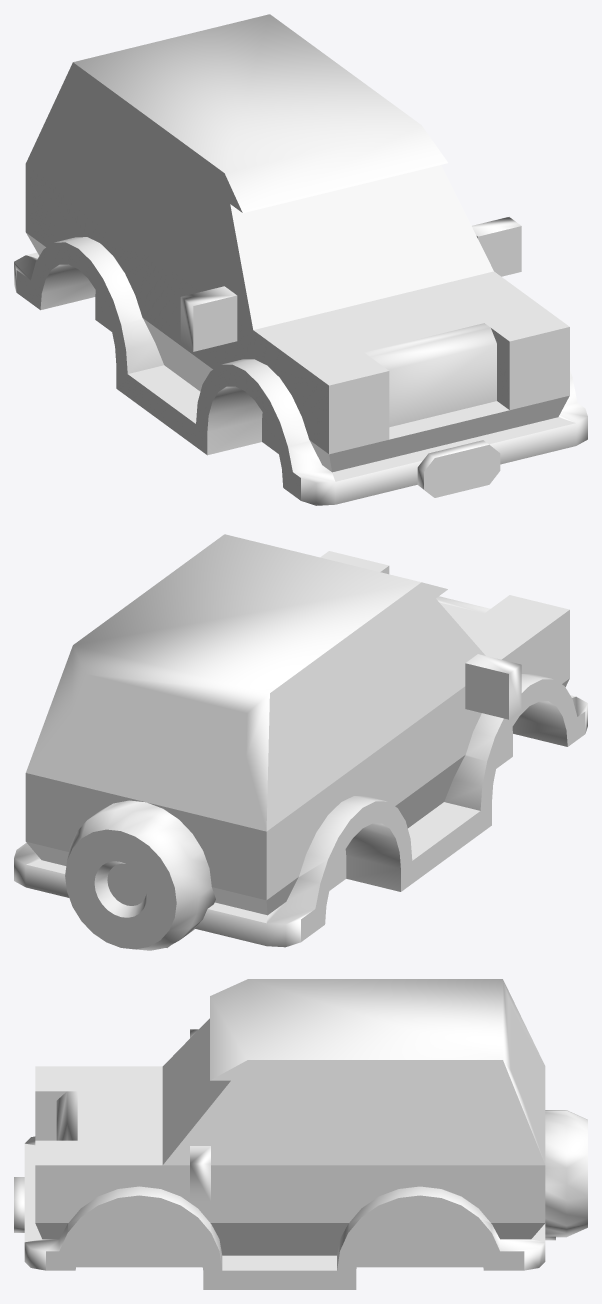
Rendered from crossover-vehicle.glb.
The picture shows the model from 3 angles, top to bottom: view 1: azimuth 30°, elevation 25°; view 2: azimuth 150°, elevation 25°; view 3: azimuth 270°, elevation 25°; orthographic projection. The views are drawn at different scales.
Visible parts, largest first — view 1: crossover-vehicle; view 2: crossover-vehicle; view 3: crossover-vehicle.
Part boxes in pixels (x1=…): crossover-vehicle: x1=14, y1=14, x2=587, y2=505; crossover-vehicle: x1=14, y1=534, x2=587, y2=950; crossover-vehicle: x1=14, y1=979, x2=587, y2=1289.
Bounding box in the file's own units: 1.5 × 1.1 × 2.7.
1 material, 1 textured.
